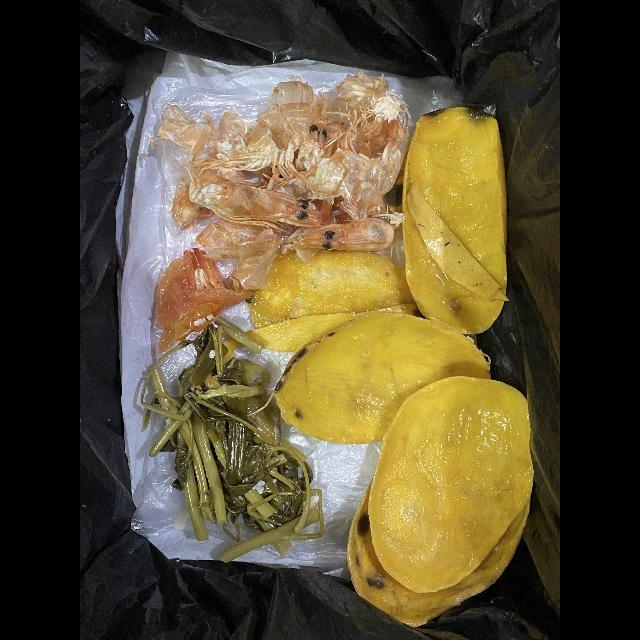left_over_food: (158, 73, 411, 291), (156, 248, 256, 353), (281, 212, 406, 264)
